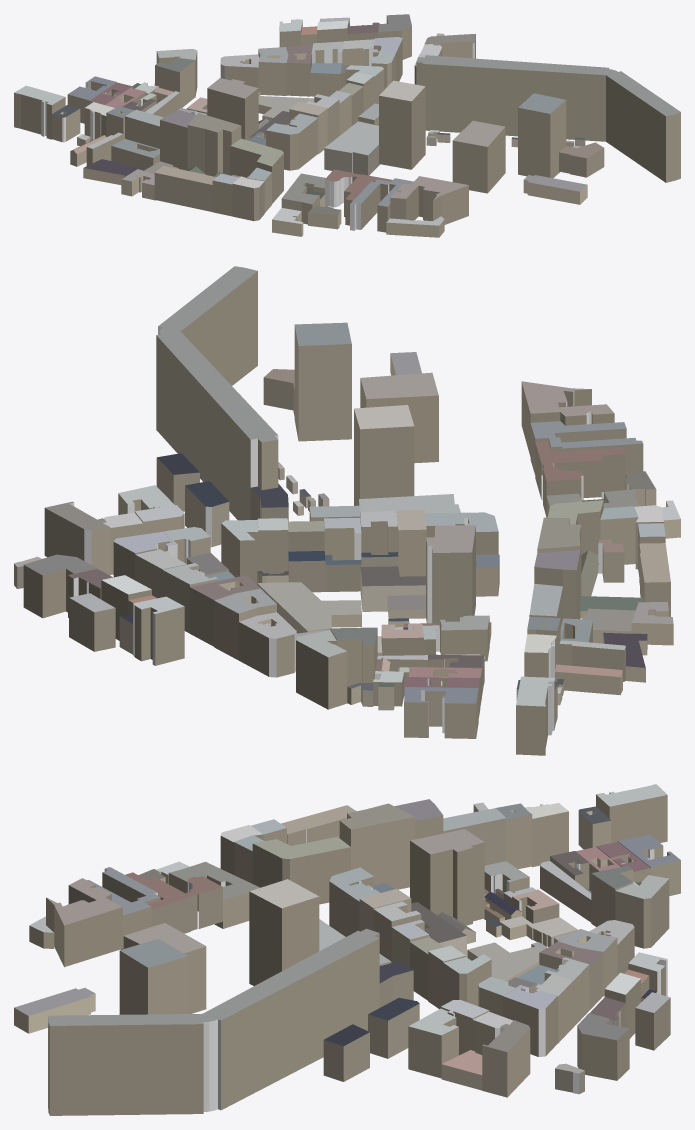
3 views of the same model, one above another, from view 1: azimuth 30°, elevation 25°; view 2: azimuth 150°, elevation 25°; view 3: azimuth 270°, elevation 25° (orthographic). The views are drawn at different scales.
Parts seen in each view (by area): view 1: tuile; view 2: tuile; view 3: tuile.
Part boxes in pixels (x1,y1,x2,y2): tuile: (14,14,680,237); tuile: (14,266,680,755); tuile: (14,784,680,1115).
Bounding box in the file's own units: 282 × 47.89 × 272.
